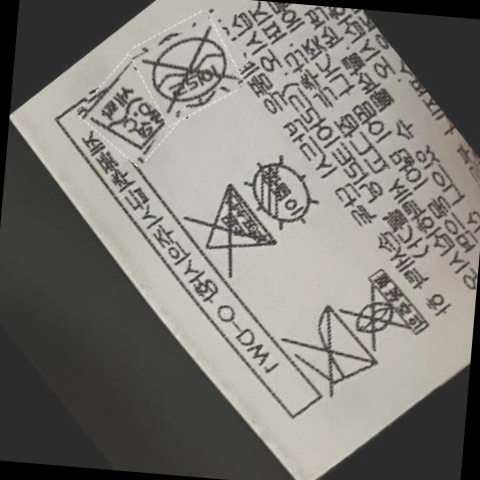DN_bleach: (192, 184, 275, 266)
DN_dry_clean: (146, 27, 236, 114)
DN_iron: (290, 302, 374, 397)
hand_wash: (91, 71, 167, 153)
line_dry_in_shade: (240, 148, 323, 232)
